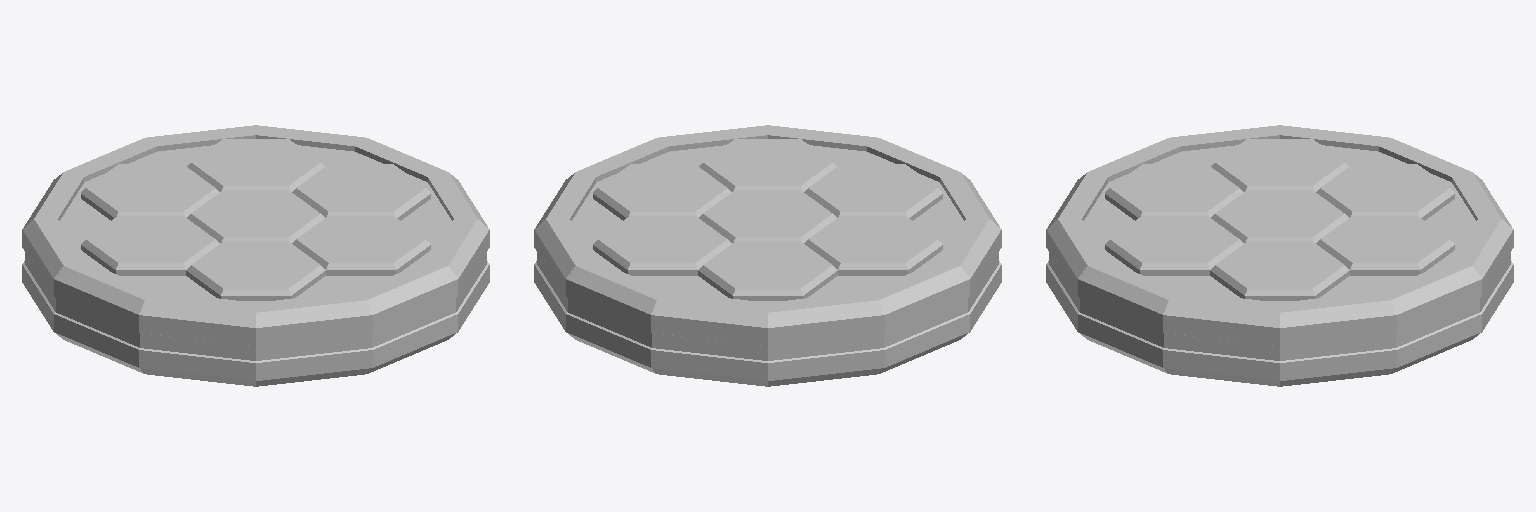
The model's file is RailgunnerCoinMesh.obj.
3 views of the same model, side by side, from view 1: azimuth 30°, elevation 25°; view 2: azimuth 150°, elevation 25°; view 3: azimuth 270°, elevation 25° (orthographic).
Visible parts, largest first — view 1: RailgunnerCoinMesh_RailgunnerCoin; view 2: RailgunnerCoinMesh_RailgunnerCoin; view 3: RailgunnerCoinMesh_RailgunnerCoin.
Part boxes in pixels (bbox=[...]): RailgunnerCoinMesh_RailgunnerCoin: bbox=[22, 125, 489, 386]; RailgunnerCoinMesh_RailgunnerCoin: bbox=[534, 125, 1001, 386]; RailgunnerCoinMesh_RailgunnerCoin: bbox=[1046, 125, 1513, 386].
Bounding box in the file's own units: 1 × 0.2 × 1.